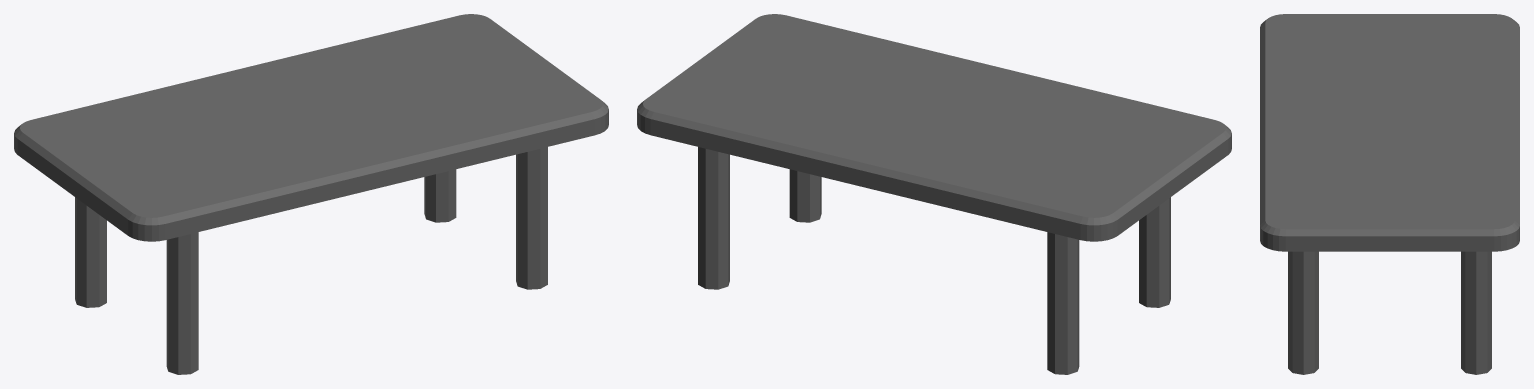
File: FlipTable.fbx
3 renders of one model, left to right at view 1: azimuth 30°, elevation 25°; view 2: azimuth 150°, elevation 25°; view 3: azimuth 270°, elevation 25°, orthographic. The views are drawn at different scales.
Parts seen in each view (by area): view 1: FlipTable; view 2: FlipTable; view 3: FlipTable.
Boxes of the visible parts, box(x1,y1,x2,y2) form: FlipTable: box(14, 14, 608, 374); FlipTable: box(637, 14, 1231, 374); FlipTable: box(1260, 14, 1519, 374).
Bounding box in the file's own units: 200 × 70.58 × 100.
